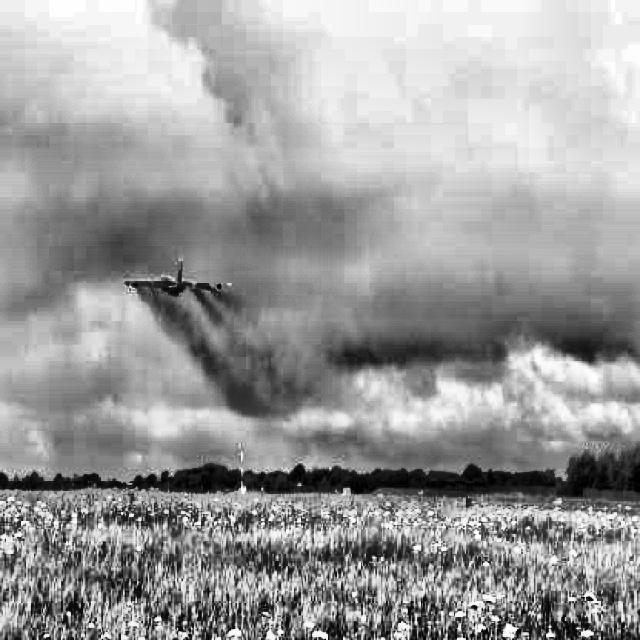B52: (119, 256, 232, 298)
